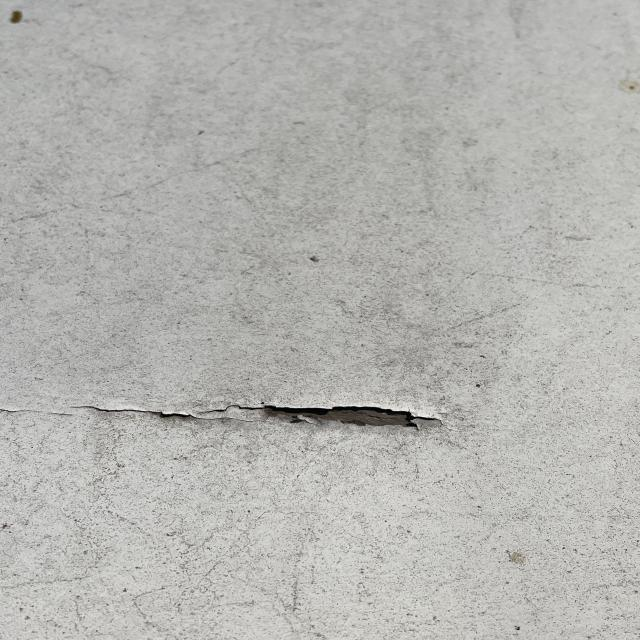crack: (95, 388, 429, 438)
